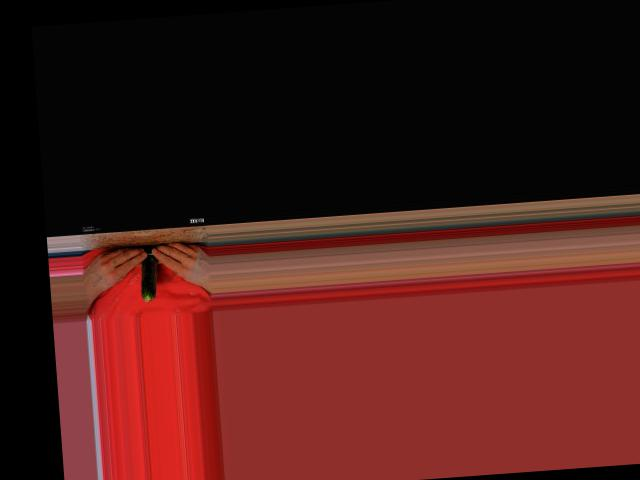cucumber: (137, 245, 159, 301)
